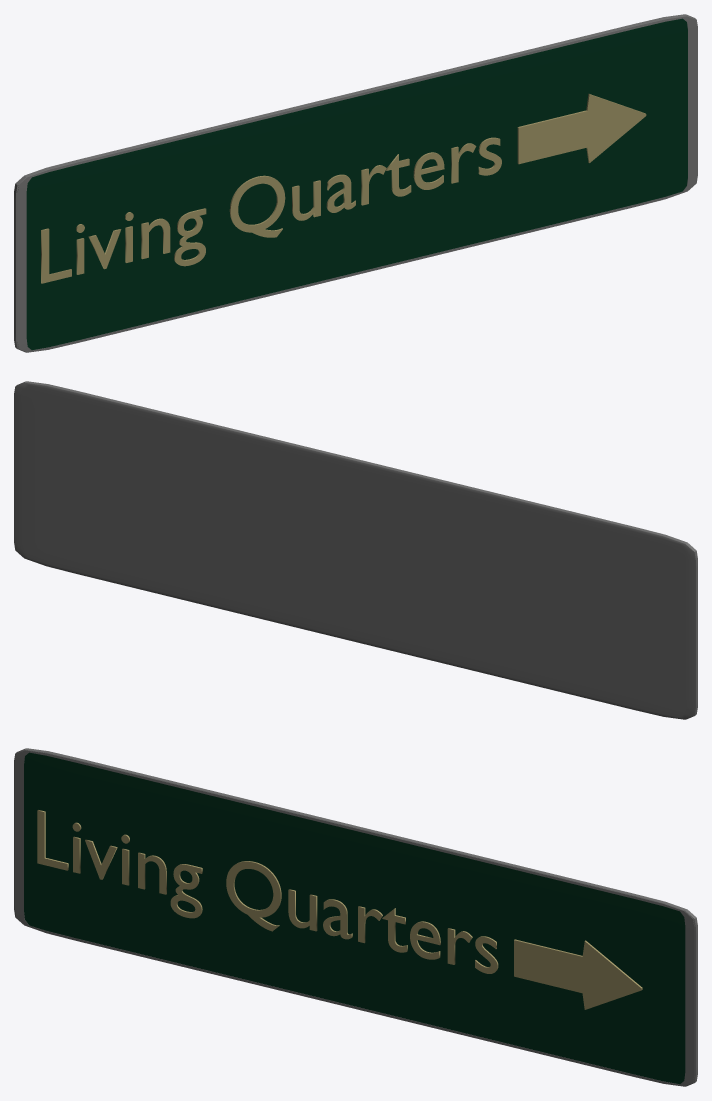
Rendered from living quarters to the right.fbx.
3 views of the same model, one above another, from view 1: azimuth 30°, elevation 25°; view 2: azimuth 150°, elevation 25°; view 3: azimuth 330°, elevation 25° (orthographic).
Visible parts, largest first — view 1: Cube.001, Text.002, Cube.002; view 2: Cube.001; view 3: Cube.001, Text.002, Cube.002.
Part boxes in pixels (<box>): Cube.001: <box>14,14,697,352</box>; Text.002: <box>41,137,501,283</box>; Cube.002: <box>517,93,646,164</box>; Cube.001: <box>14,381,697,719</box>; Cube.001: <box>14,748,697,1086</box>; Text.002: <box>37,810,498,973</box>; Cube.002: <box>514,939,642,1009</box>.
Size of the model in its own units: 1504 by 382 by 14.14.
